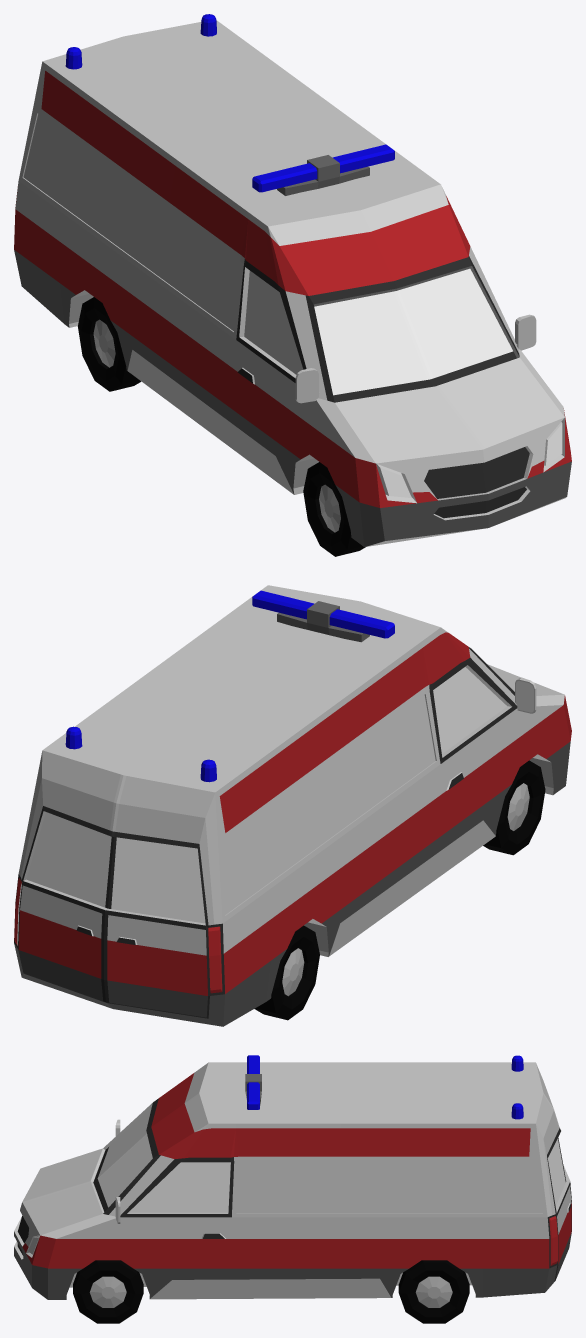
3 renders of one model, top to bottom at view 1: azimuth 30°, elevation 25°; view 2: azimuth 150°, elevation 25°; view 3: azimuth 270°, elevation 25°, orthographic. The views are drawn at different scales.
Visible parts, largest first — view 1: Body, R_R_Wheel, F_R_Wheel; view 2: Body, R_R_Wheel, F_R_Wheel; view 3: Body, R_L_Wheel, F_L_Wheel.
Boxes of the visible parts, left/top/right/bottom form: Body: left=14, top=14, right=571, bottom=547; R_R_Wheel: left=77, top=297, right=140, bottom=391; F_R_Wheel: left=303, top=462, right=365, bottom=556; Body: left=14, top=585, right=571, bottom=1026; R_R_Wheel: left=254, top=925, right=319, bottom=1020; F_R_Wheel: left=483, top=760, right=545, bottom=855; Body: left=14, top=1055, right=571, bottom=1299; R_L_Wheel: left=398, top=1260, right=469, bottom=1323; F_L_Wheel: left=73, top=1260, right=143, bottom=1323.
Bounding box in the file's own units: 251 × 293 × 698.
